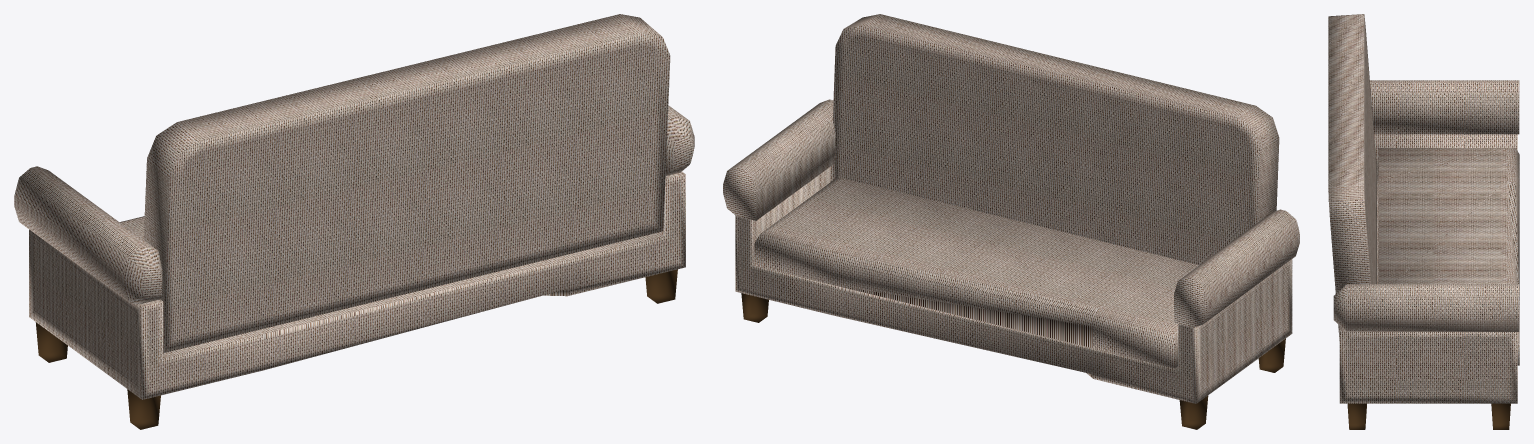
Rendered from Couch.glb.
3 views of the same model, side by side, from view 1: azimuth 30°, elevation 25°; view 2: azimuth 150°, elevation 25°; view 3: azimuth 270°, elevation 25° (orthographic). The views are drawn at different scales.
Visible parts, largest first — view 1: Couch; view 2: Couch; view 3: Couch.
Boxes of the visible parts, x1,y1,x2,y2 form: Couch: (14, 14, 694, 429); Couch: (723, 14, 1299, 429); Couch: (1328, 14, 1519, 429).
Size of the model in its own units: 1.41 by 0.6859 by 0.5227.
Materials: 2 (1 with a texture image).
